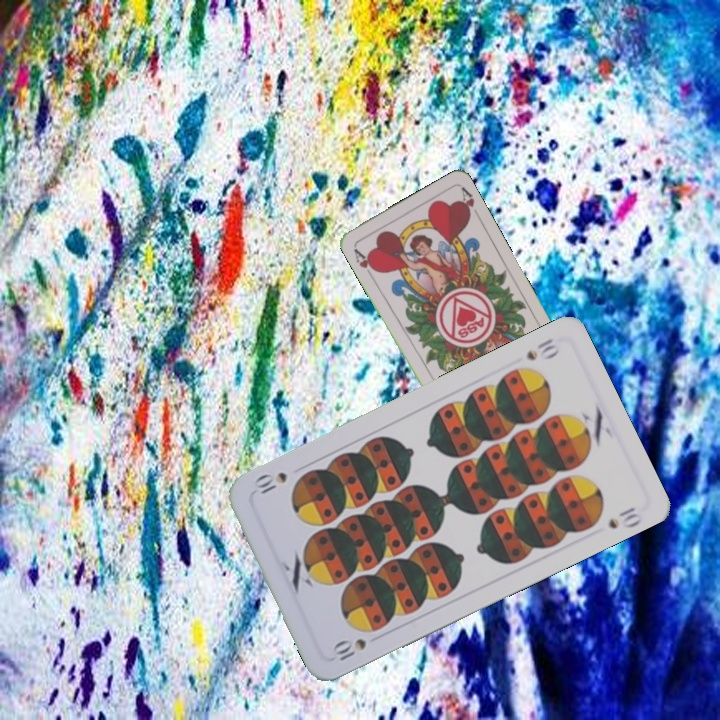HA: (350, 244, 380, 280)
S10: (328, 634, 369, 665), (522, 334, 562, 363)
